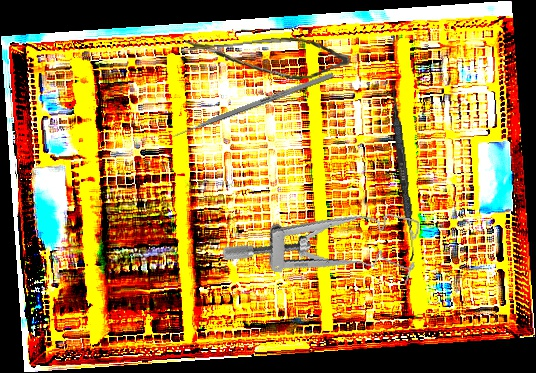Micro Scissor: (183, 23, 352, 92)
Pusher: (163, 71, 335, 143)
Spatula Surgical: (385, 83, 421, 261)
Speculum: (219, 181, 427, 301)
